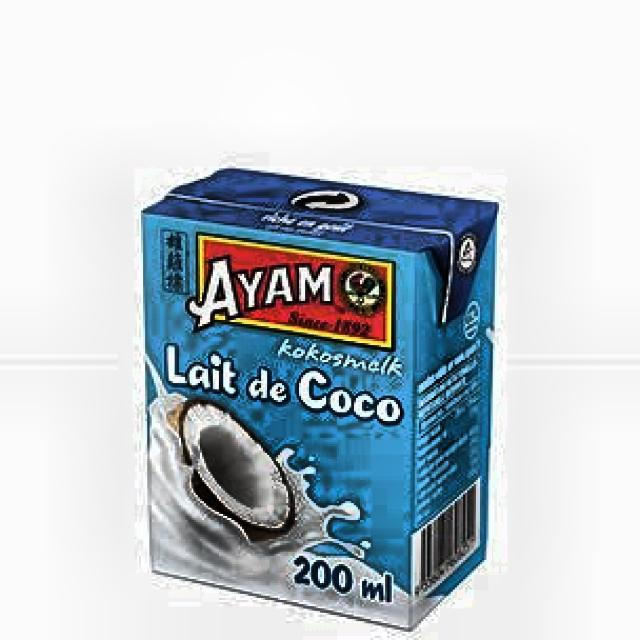cardboard: (139, 165, 499, 630)
